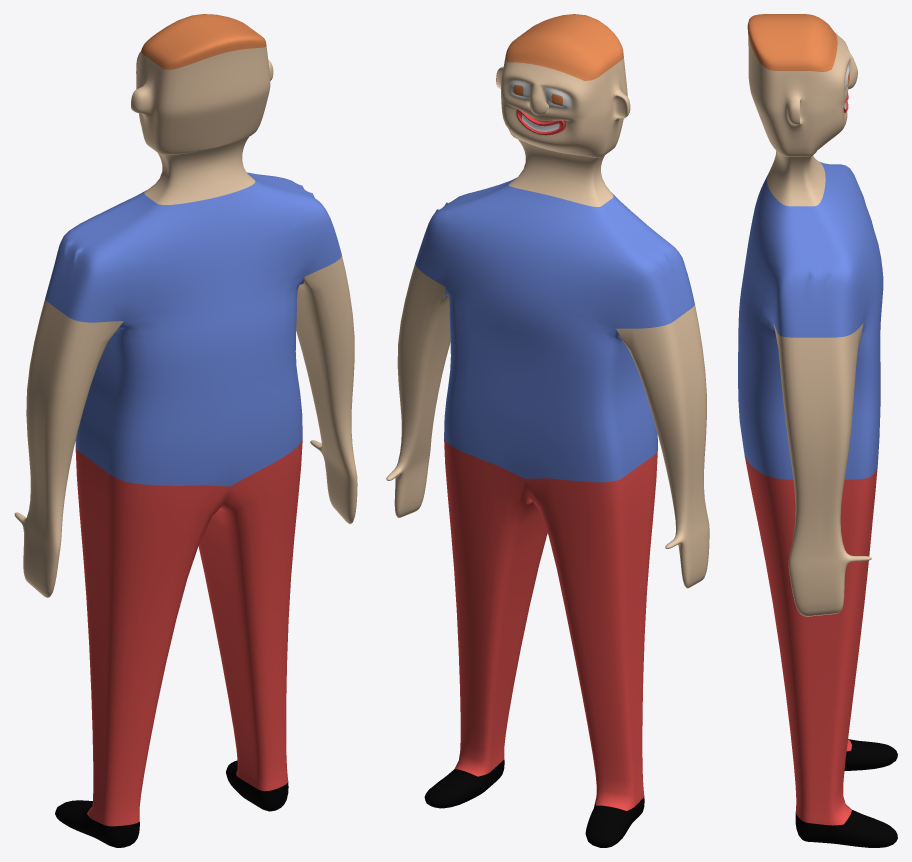
Rendered from Kind_1_neu.fbx.
The picture shows the model from 3 angles, left to right: view 1: azimuth 30°, elevation 25°; view 2: azimuth 150°, elevation 25°; view 3: azimuth 270°, elevation 25°; orthographic projection. The views are drawn at different scales.
Visible parts, largest first — view 1: Cube; view 2: Cube; view 3: Cube.
Boxes of the visible parts, left/top/right/bottom form: Cube: left=14, top=14, right=357, bottom=847; Cube: left=386, top=14, right=709, bottom=847; Cube: left=738, top=14, right=897, bottom=847.
Size of the model in its own units: 37.21 by 92.42 by 17.07.
